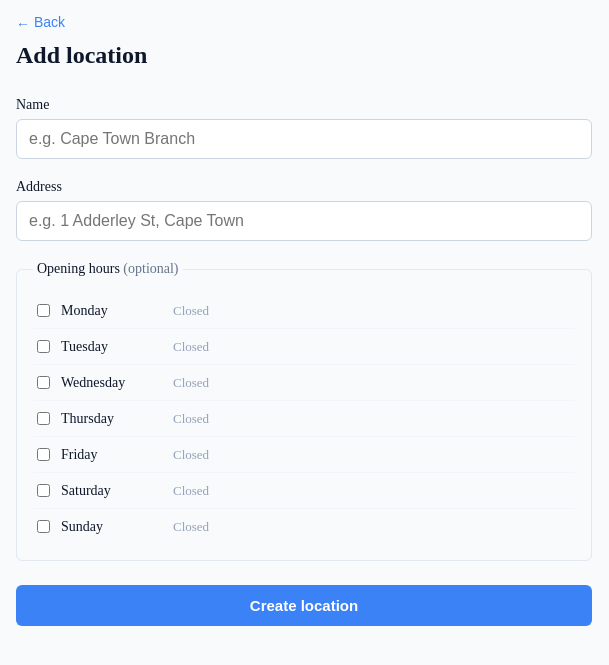
it: AddLocationView › shows name validation error when name is empty on submit
In the field with test id "address-input": (304, 221) x1=16 y1=201 x2=592 y2=241, type "123 Main St"
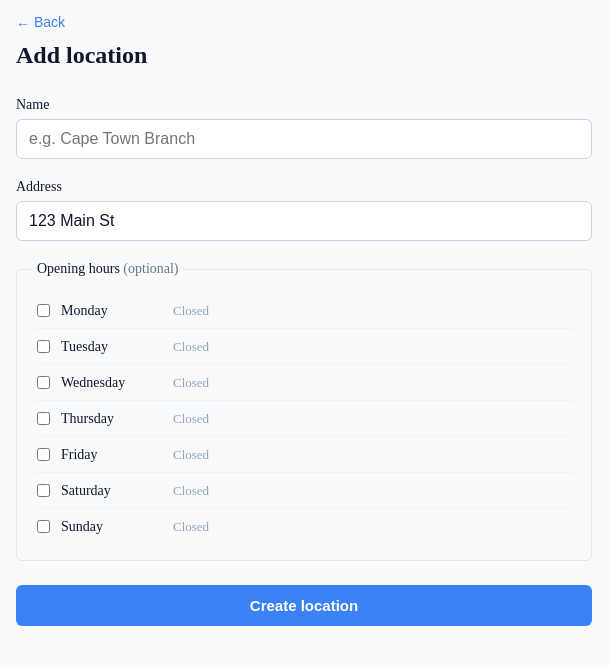
Submit the form with test id "add-location-form"
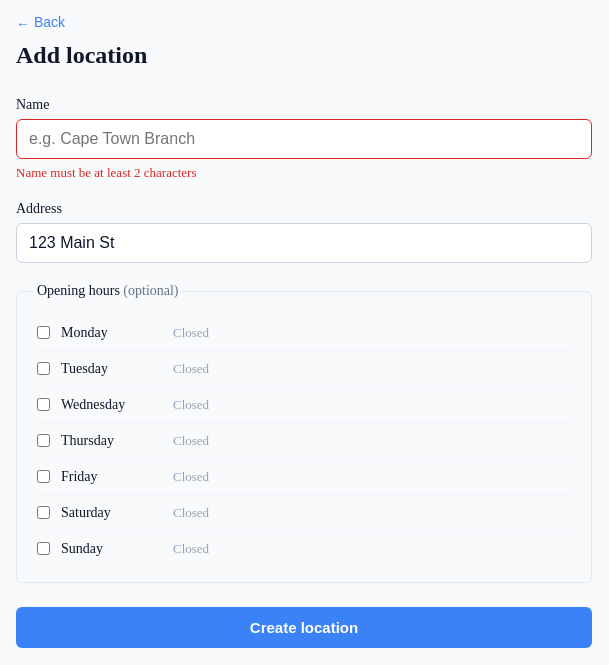
Expected: the text "Name must be at least 2 characters" is shown, x1=16 y1=165 x2=196 y2=180
